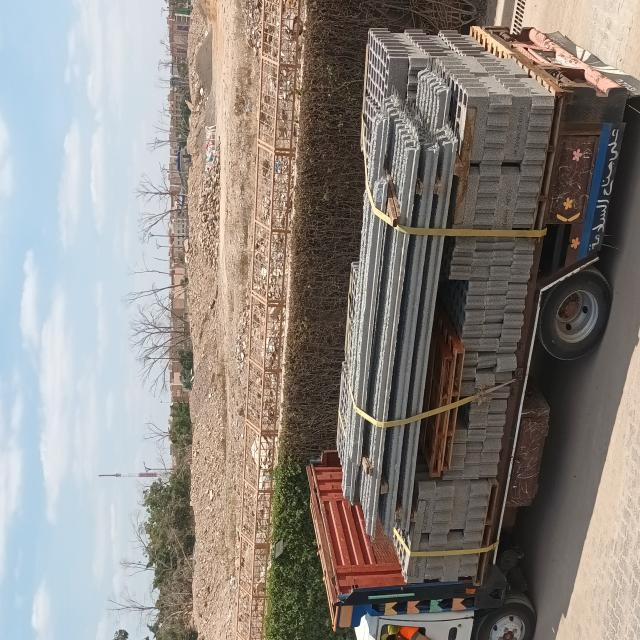bricks: (407, 30, 555, 230), (407, 387, 509, 551), (451, 238, 535, 396), (404, 554, 479, 582)
